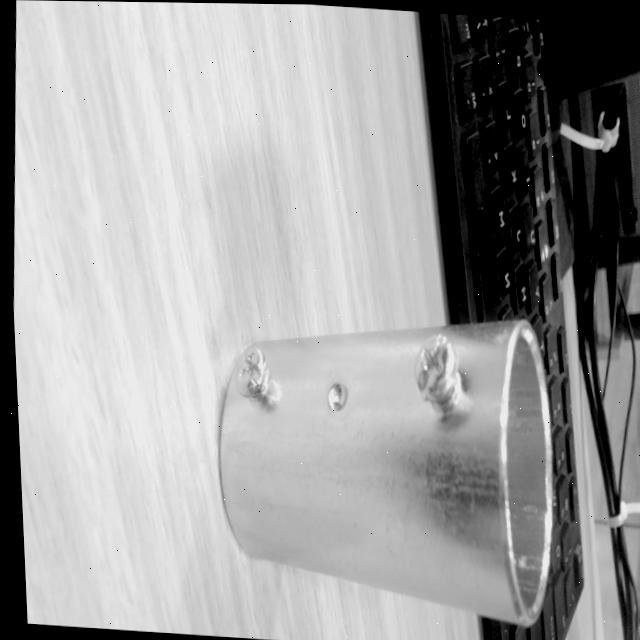Co_Lon: (218, 321, 554, 628)
